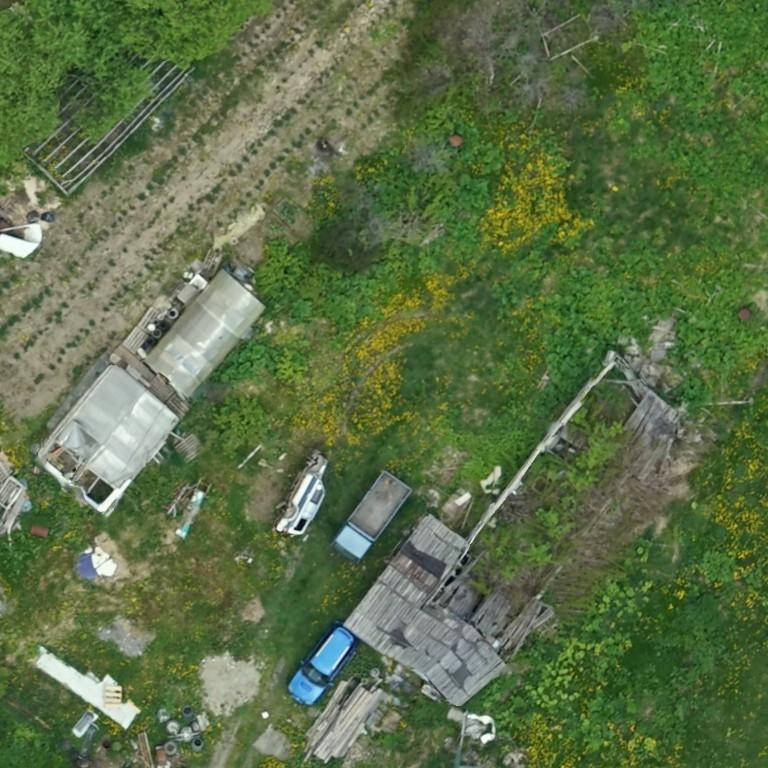hogweed: (638, 0, 767, 105), (539, 294, 604, 411), (677, 321, 734, 366), (214, 344, 274, 380), (674, 376, 702, 398), (748, 67, 767, 99)
